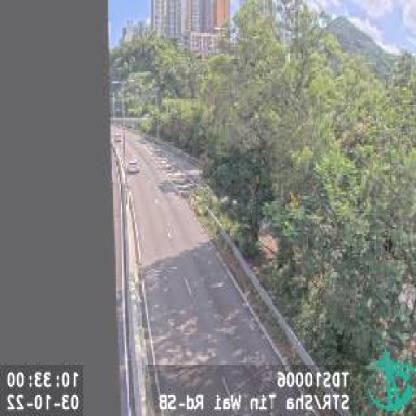Car: (130, 158, 139, 172)
